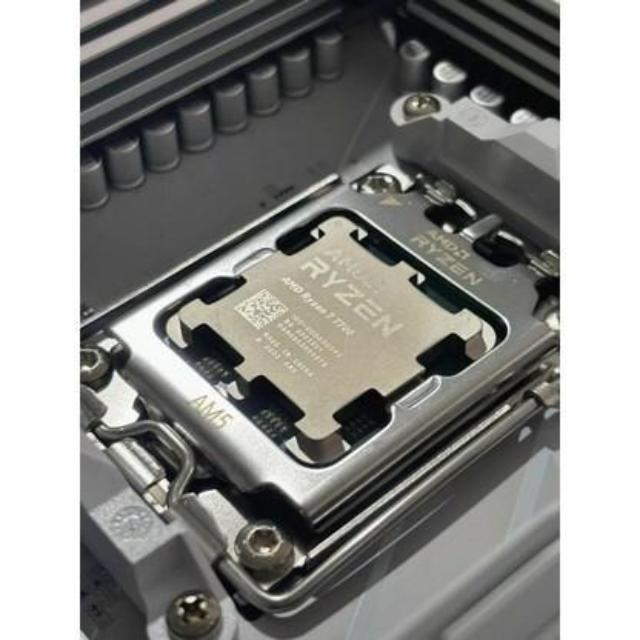CPU: (184, 222, 482, 446)
